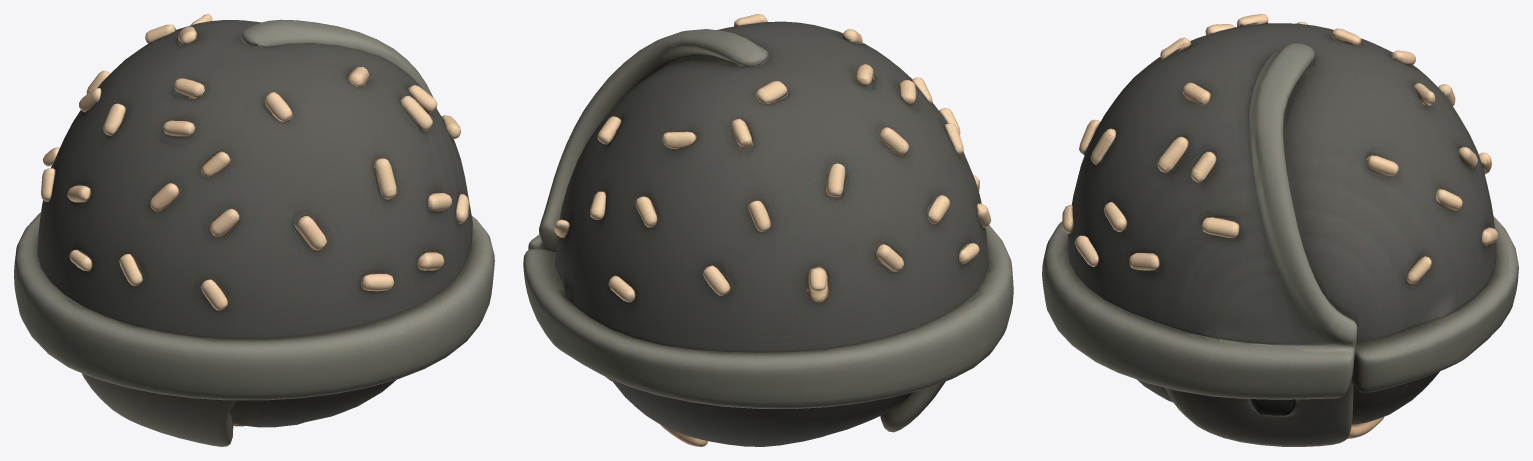
Rendered from acc_hat_sprinkle_cap_01.glb.
3 views of the same model, side by side, from view 1: azimuth 30°, elevation 25°; view 2: azimuth 150°, elevation 25°; view 3: azimuth 270°, elevation 25° (orthographic).
Parts seen in each view (by area): view 1: acc_hat_sprinkle_cap_01; view 2: acc_hat_sprinkle_cap_01; view 3: acc_hat_sprinkle_cap_01.
Boxes of the visible parts, x1,y1,x2,y2 form: acc_hat_sprinkle_cap_01: (14,14,494,446); acc_hat_sprinkle_cap_01: (523,14,1013,446); acc_hat_sprinkle_cap_01: (1042,14,1518,446).
Bounding box in the file's own units: 0.3186 × 0.28 × 0.3149.
Materials: 1 (1 with a texture image).
